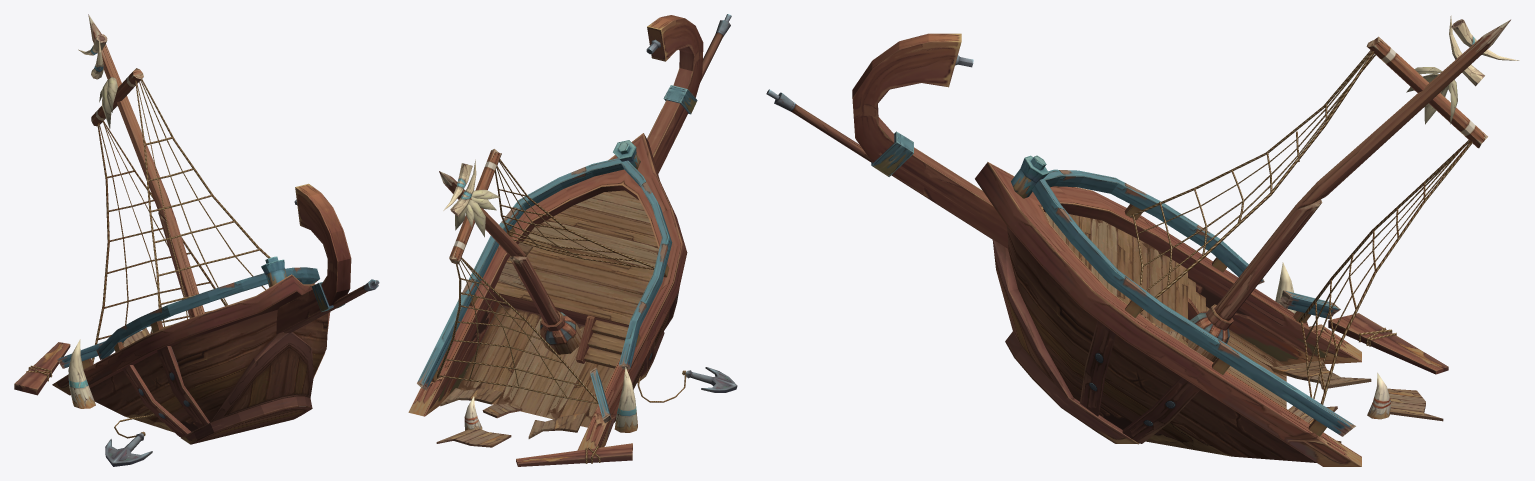
Rendered from map_7004_jz_07a.FBX.
3 renders of one model, left to right at view 1: azimuth 30°, elevation 25°; view 2: azimuth 150°, elevation 25°; view 3: azimuth 270°, elevation 25°, orthographic. The views are drawn at different scales.
Visible parts, largest first — view 1: map_7004_jz_07a; view 2: map_7004_jz_07a; view 3: map_7004_jz_07a.
Boxes of the visible parts, left/top/right/bottom form: map_7004_jz_07a: left=14, top=14, right=379, bottom=466; map_7004_jz_07a: left=408, top=14, right=737, bottom=466; map_7004_jz_07a: left=766, top=15, right=1519, bottom=466.
Bounding box in the file's own units: 10.27 × 13.5 × 23.18.
